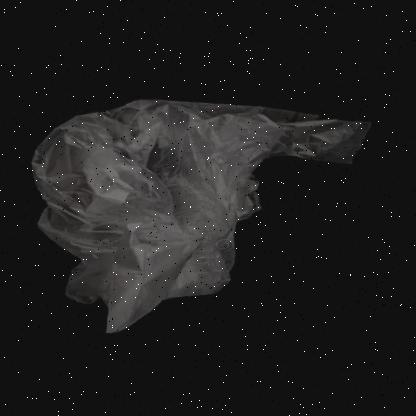Others: (30, 94, 374, 334)
